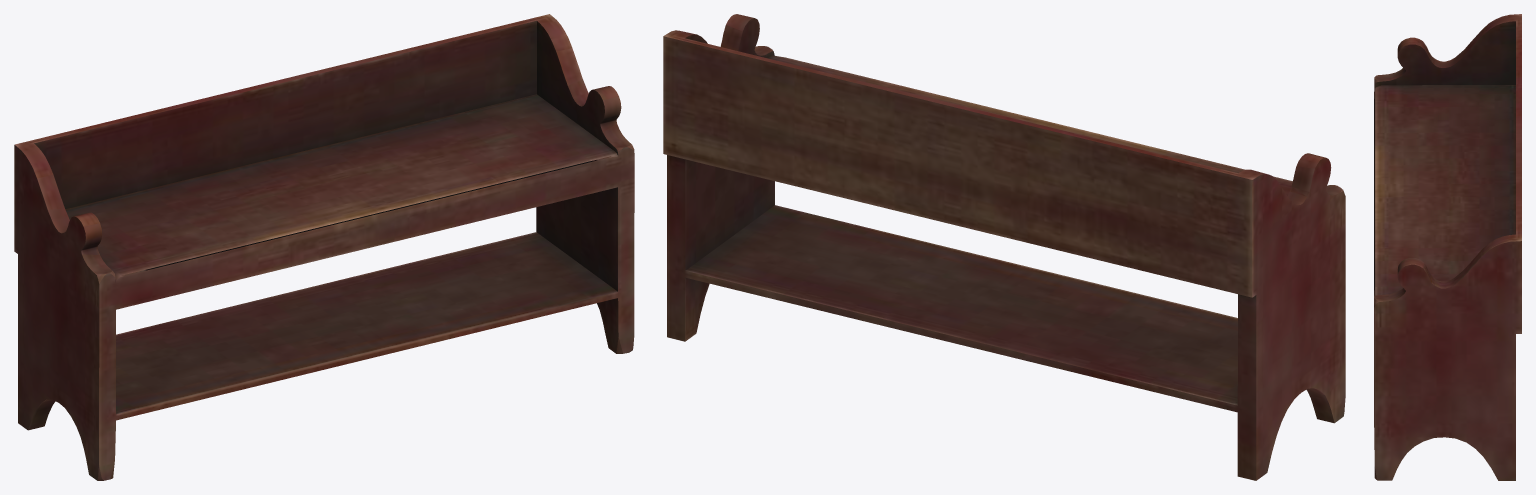
The model's file is waiting_bench.glb.
The picture shows the model from 3 angles, left to right: view 1: azimuth 30°, elevation 25°; view 2: azimuth 150°, elevation 25°; view 3: azimuth 270°, elevation 25°; orthographic projection. The views are drawn at different scales.
Visible parts, largest first — view 1: waiting_bench; view 2: waiting_bench; view 3: waiting_bench.
Part boxes in pixels (bbox=[...]): waiting_bench: bbox=[14, 14, 634, 480]; waiting_bench: bbox=[663, 14, 1345, 480]; waiting_bench: bbox=[1374, 14, 1521, 480].
Bounding box in the file's own units: 1.83 × 0.9 × 0.5025.
Materials: 1 (1 with a texture image).
